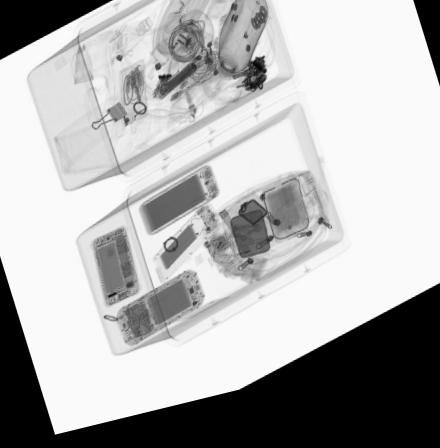Powerbank: (140, 173, 220, 242)
